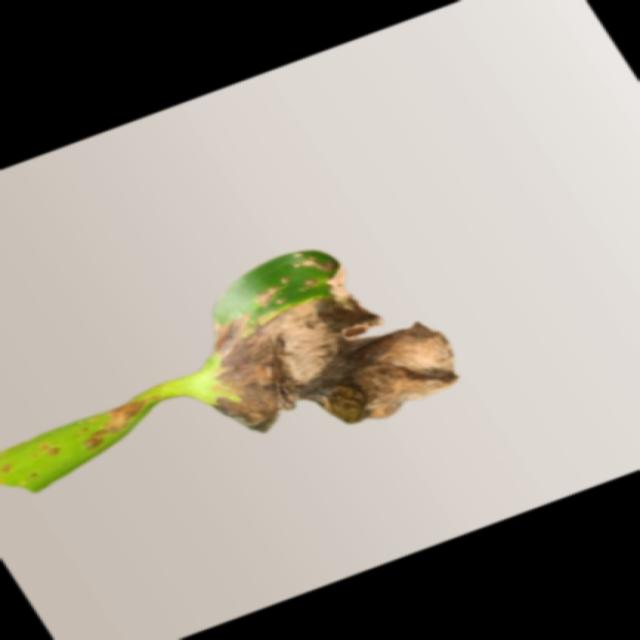daun berpenyakit karat: (2, 250, 456, 492)
